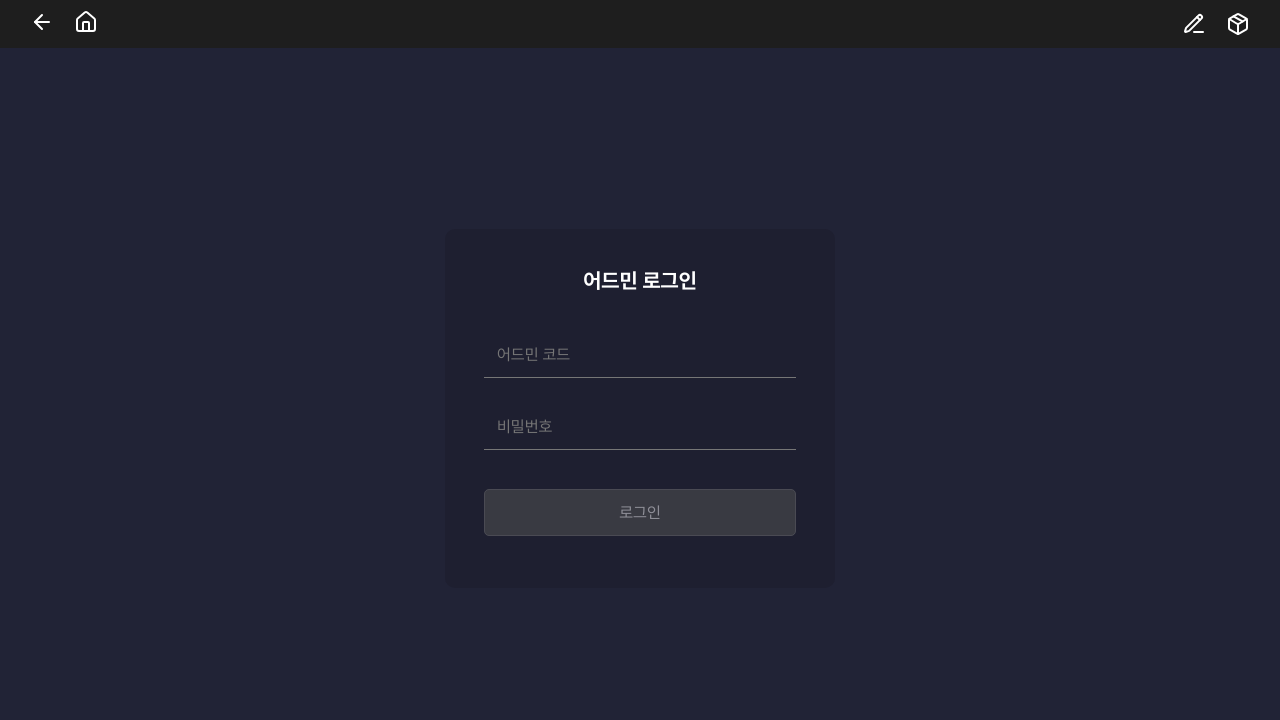
it: 어드민 로그인 페이지 테스트 › 로그인 실패 시 에러 메시지를 표시해야 한다
Note: 잘못된 Credentiasls로 로그인 시도
Type "wrongAdmin" into the field with placeholder "어드민 코드" at (640, 355), box [484, 332, 796, 378]
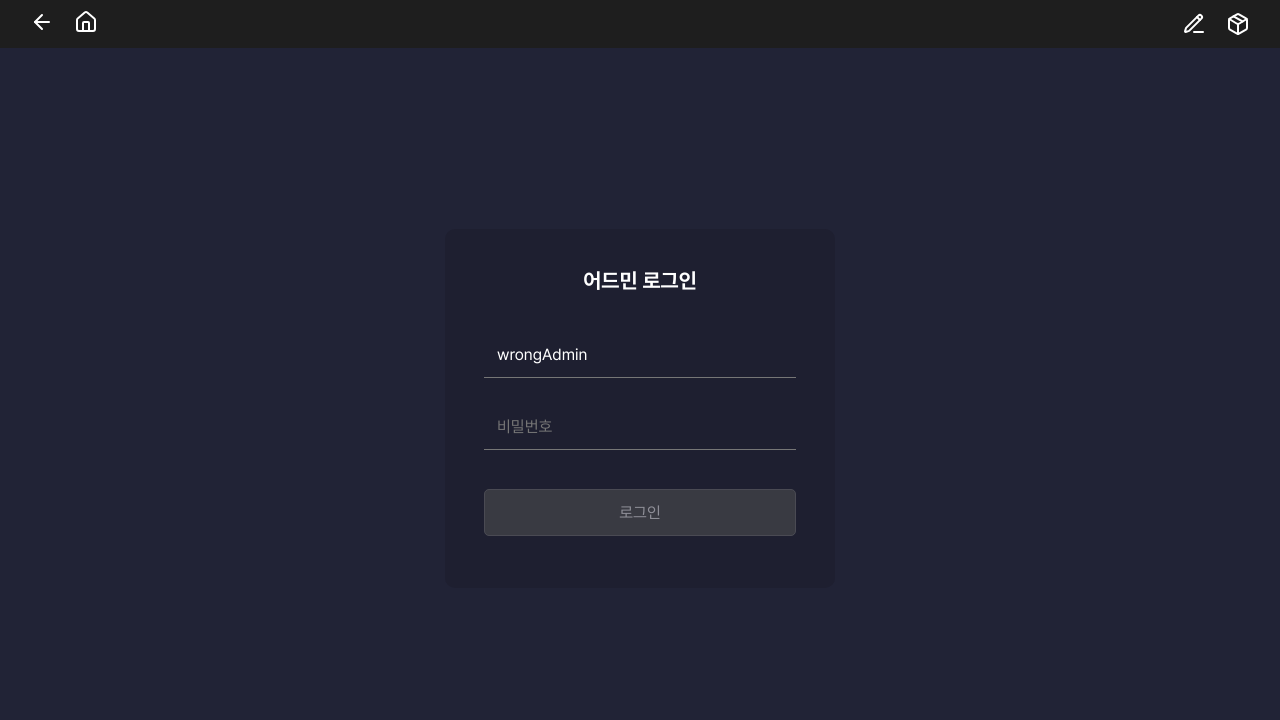
Type "wrongPassword" into the password field with placeholder "비밀번호" at (640, 427), box [484, 404, 796, 450]
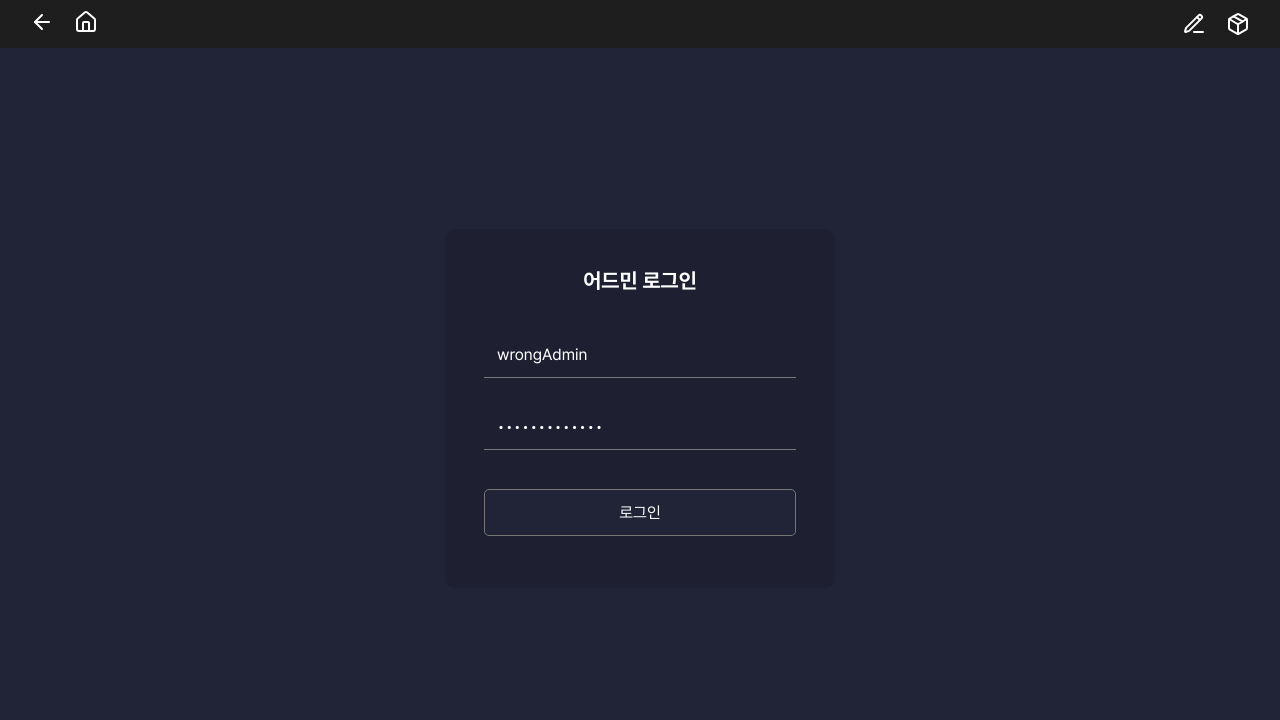
Click the submit button at (640, 513), box [484, 489, 796, 536]
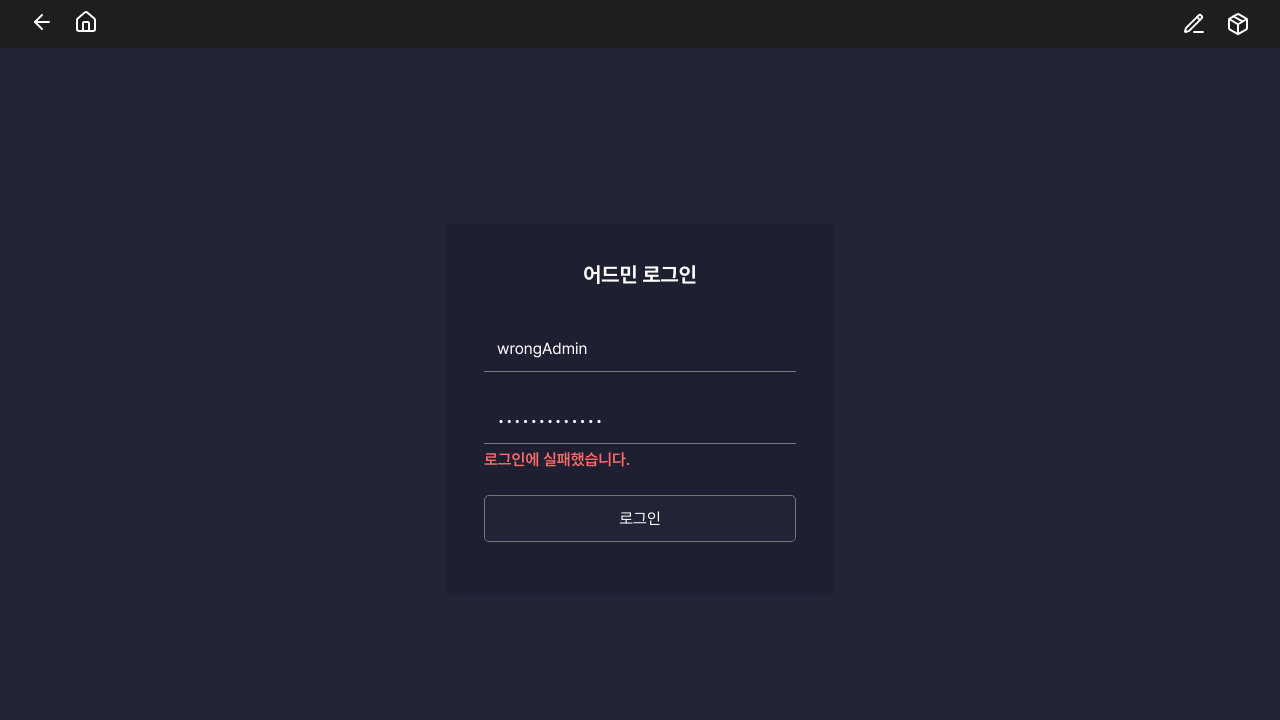
Check: the text "로그인에 실패했습니다." is shown, box [484, 450, 630, 468]
